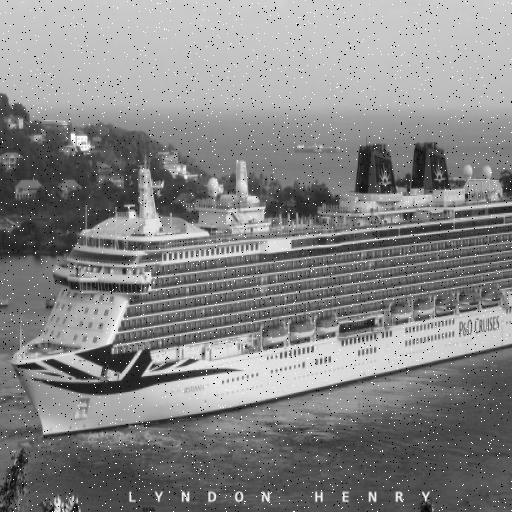cruises: (6, 130, 512, 449)
